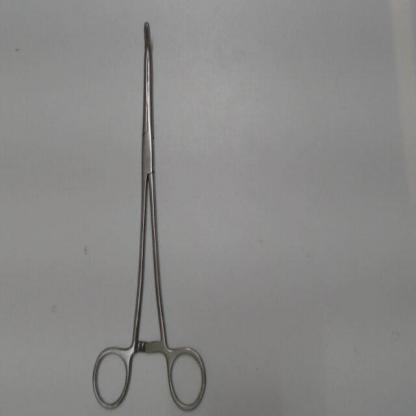Lahey Forceps: (88, 19, 208, 413)
